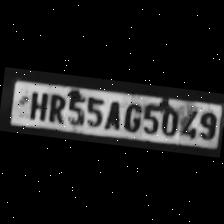0: (157, 103, 180, 137)
4: (176, 104, 199, 139)
5: (138, 100, 162, 134), (64, 91, 86, 126), (82, 93, 104, 128)
9: (194, 106, 220, 140)
A: (100, 97, 124, 131)
G: (118, 98, 142, 132)
H: (23, 88, 48, 121)
R: (43, 90, 67, 124)
